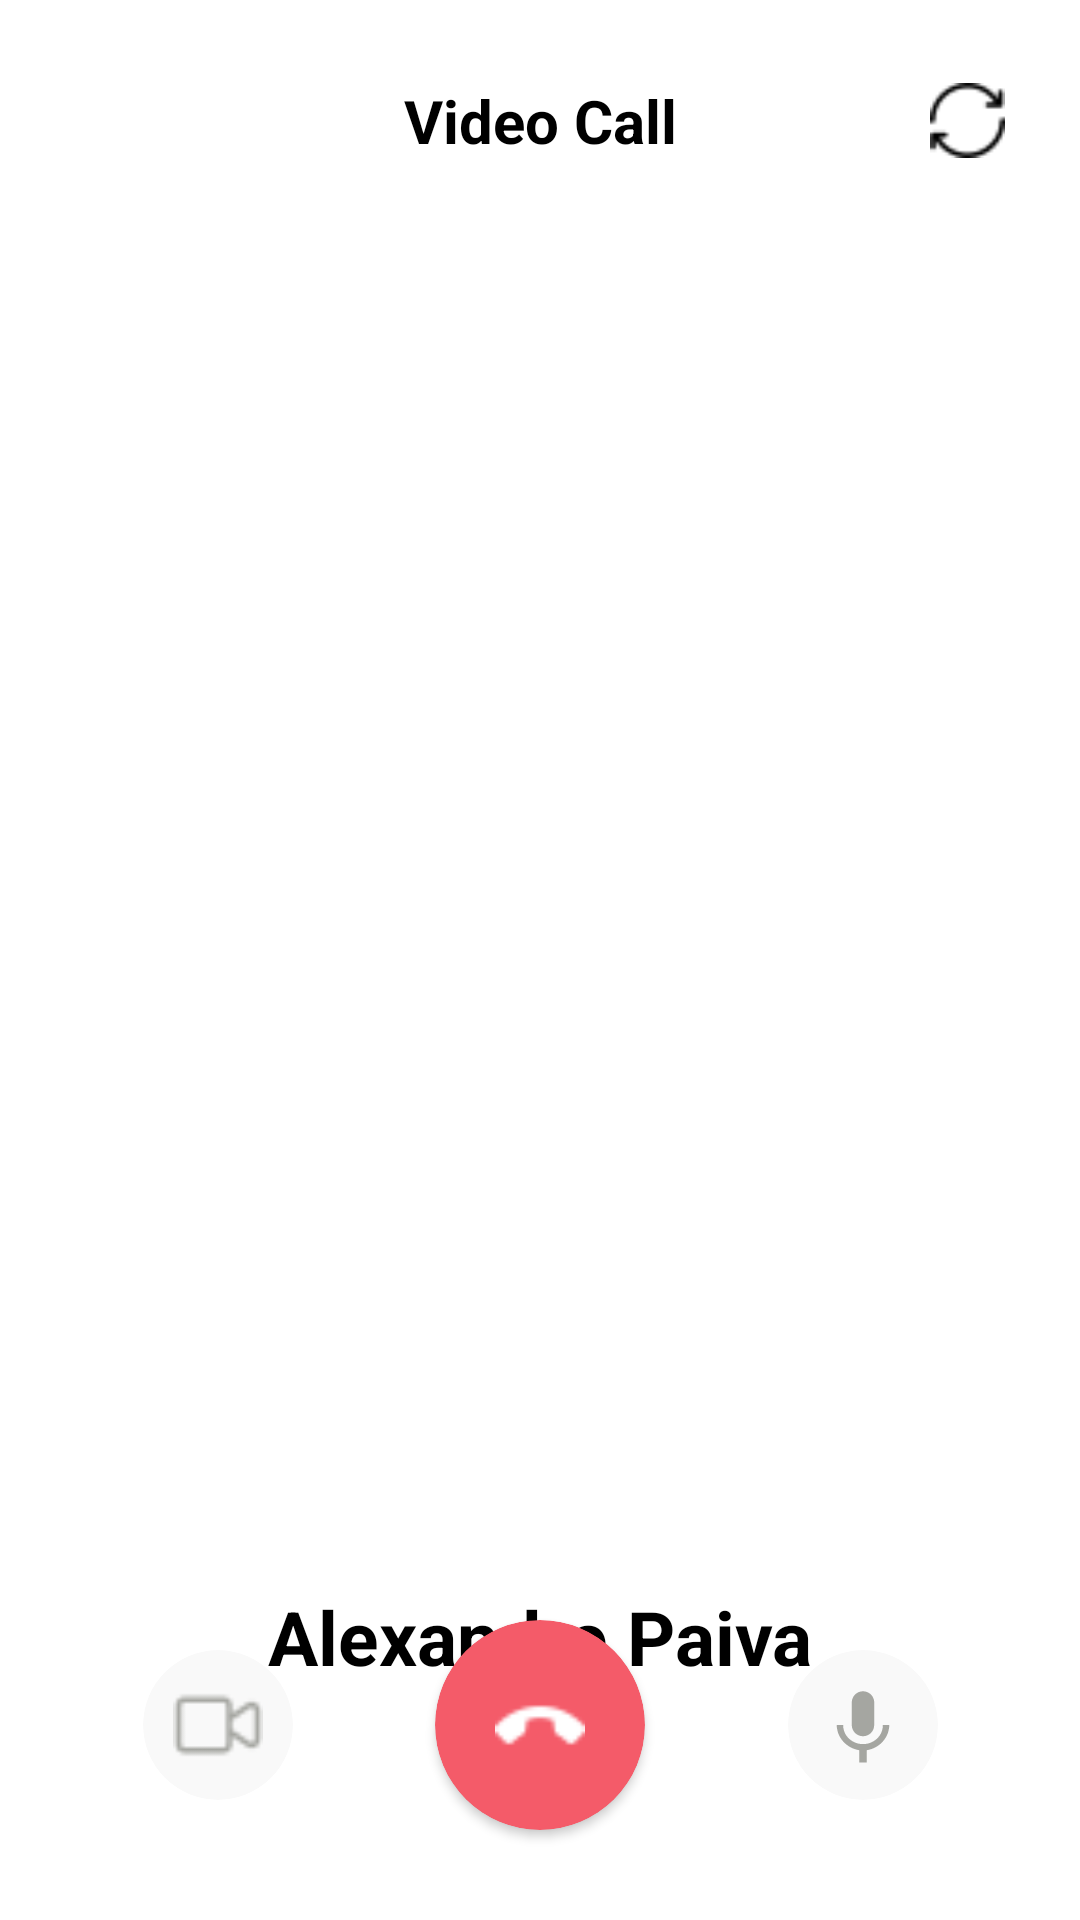

Icons on this 1080px x 1920px Android screen, each with its box as (x1=x1, y1=y1, x2=x2, y2=y2):
call end: (x1=495, y1=1705, x2=585, y2=1745)
replay: (x1=930, y1=83, x2=1005, y2=158)
video: (x1=175, y1=1695, x2=261, y2=1755)
voice: (x1=837, y1=1691, x2=889, y2=1763)
